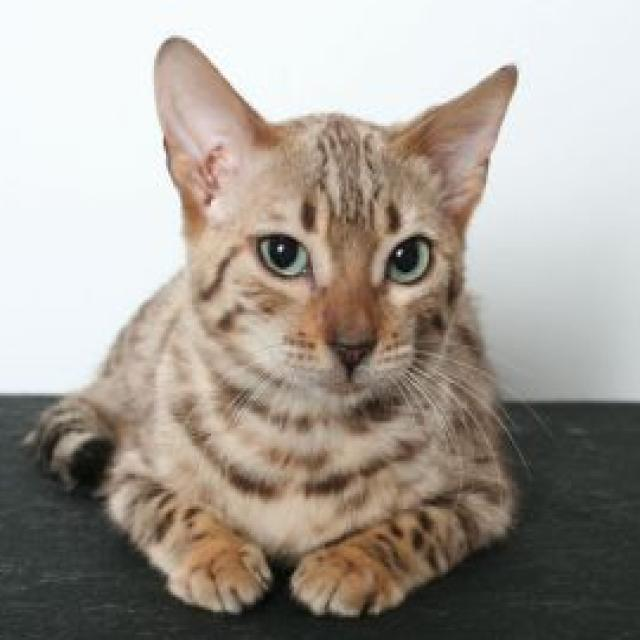Bengal: (24, 29, 528, 610)
